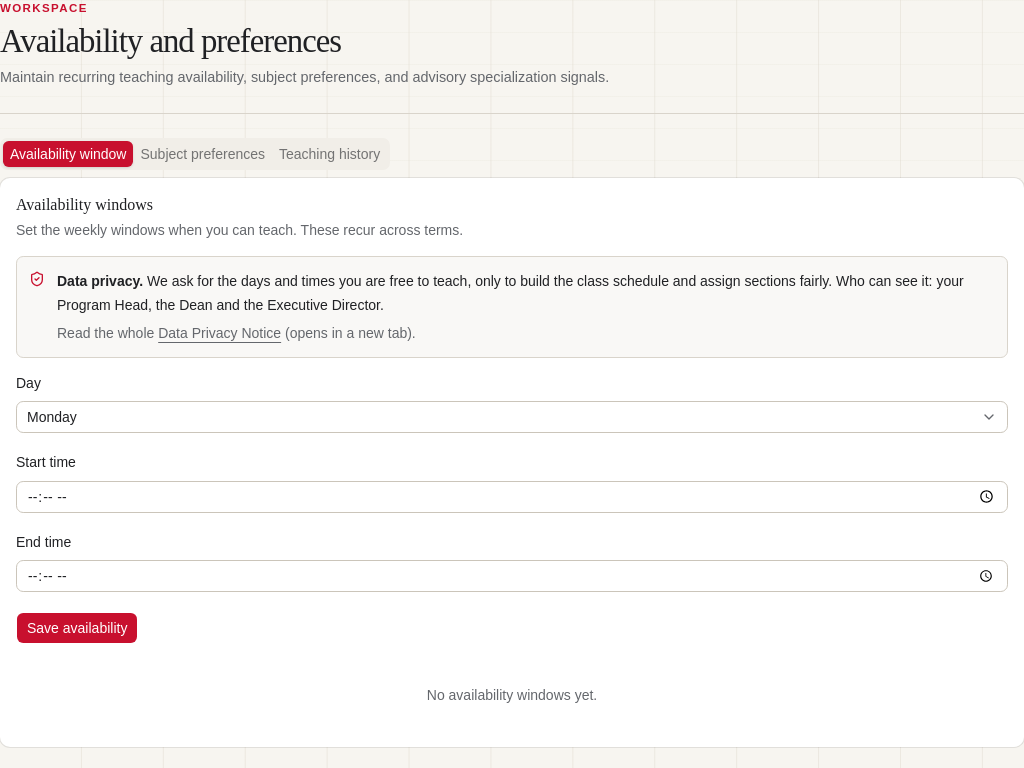
Scenario: FacultySubjectPreferencePanel › shows one table: no separate Declared specializations table, and the proficiency is a dropdown
What coordinates should you click on to do the following:
click the tab "Subject preferences"
I would click on:
 (203, 154)
Its box is x1=134 y1=141 x2=272 y2=167.
(page scrolled)
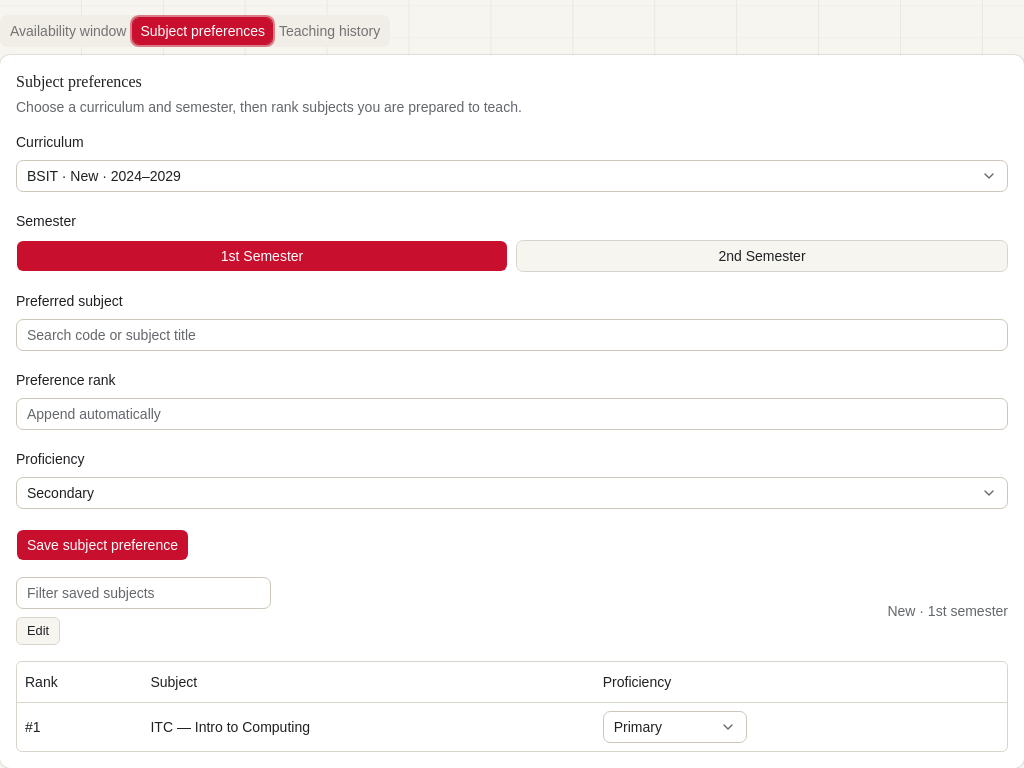
Now the dropdown named "Proficiency for ITC" reads "Primary", box x1=603 y1=711 x2=747 y2=743
